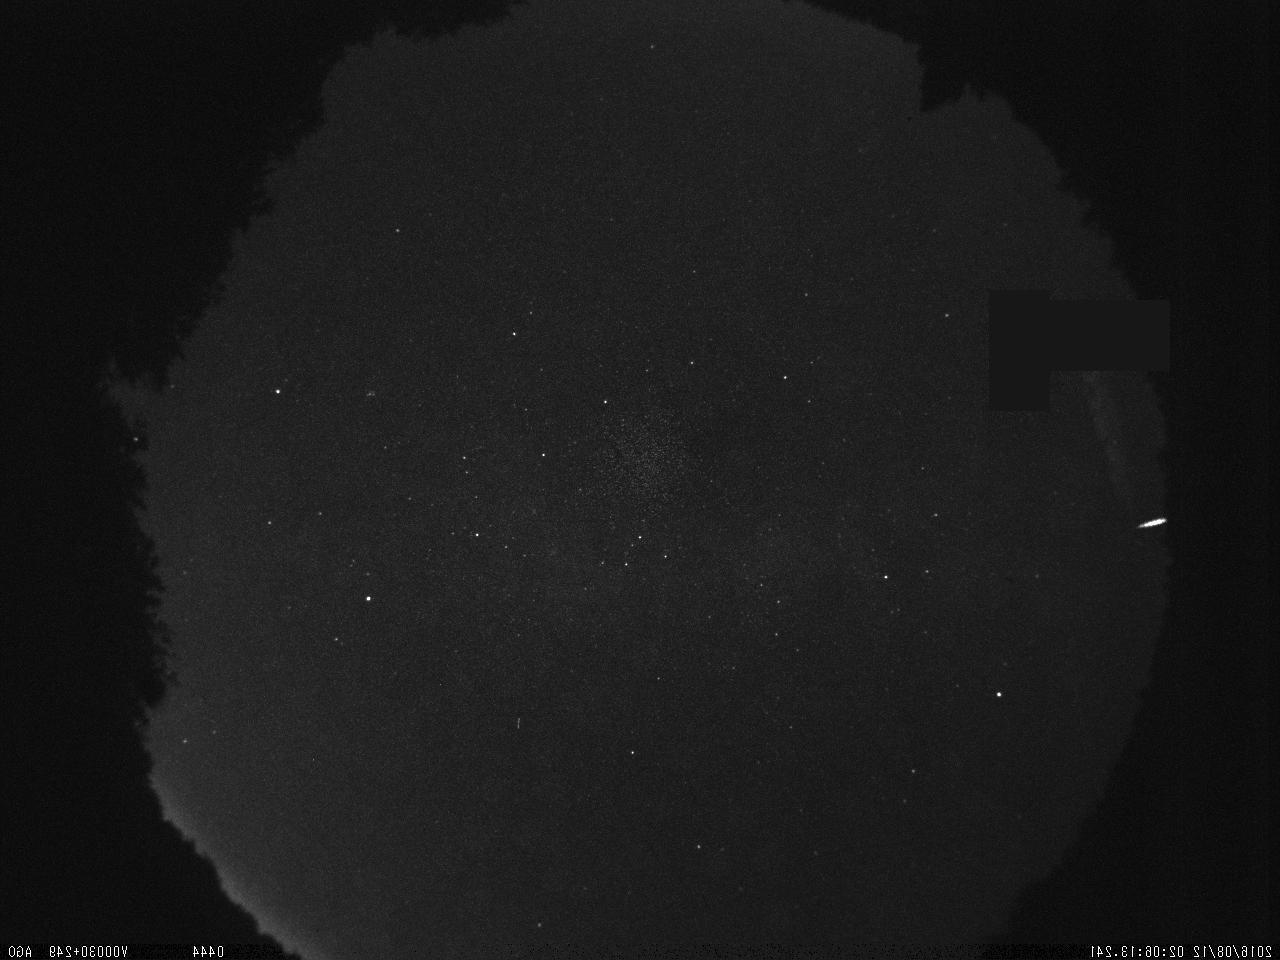meteor: (1127, 483, 1162, 554)
